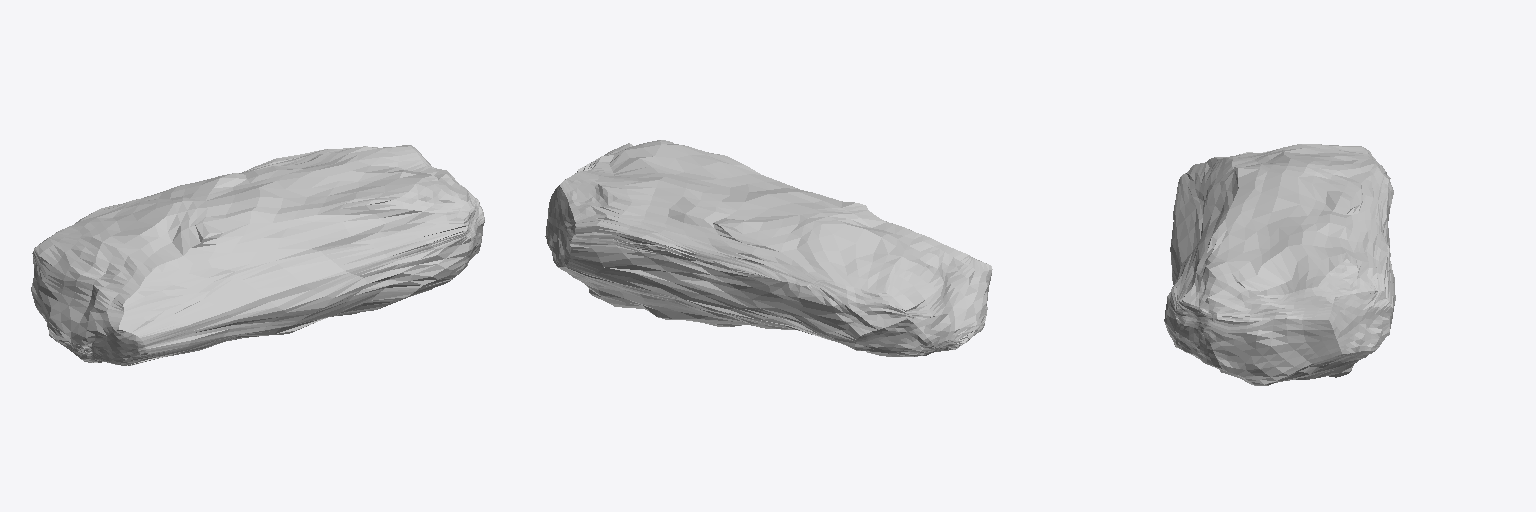
File: Rock_04_Hite.OBJ
The picture shows the model from 3 angles: view 1: azimuth 30°, elevation 25°; view 2: azimuth 150°, elevation 25°; view 3: azimuth 270°, elevation 25°; orthographic projection.
Visible parts, largest first — view 1: Group2; view 2: Group2; view 3: Group2.
Part boxes in pixels (x1,y1,x2,y2): Group2: (31, 145, 484, 365); Group2: (545, 140, 992, 356); Group2: (1164, 144, 1395, 385).
Bounding box in the file's own units: 22.29 × 6.32 × 11.08.